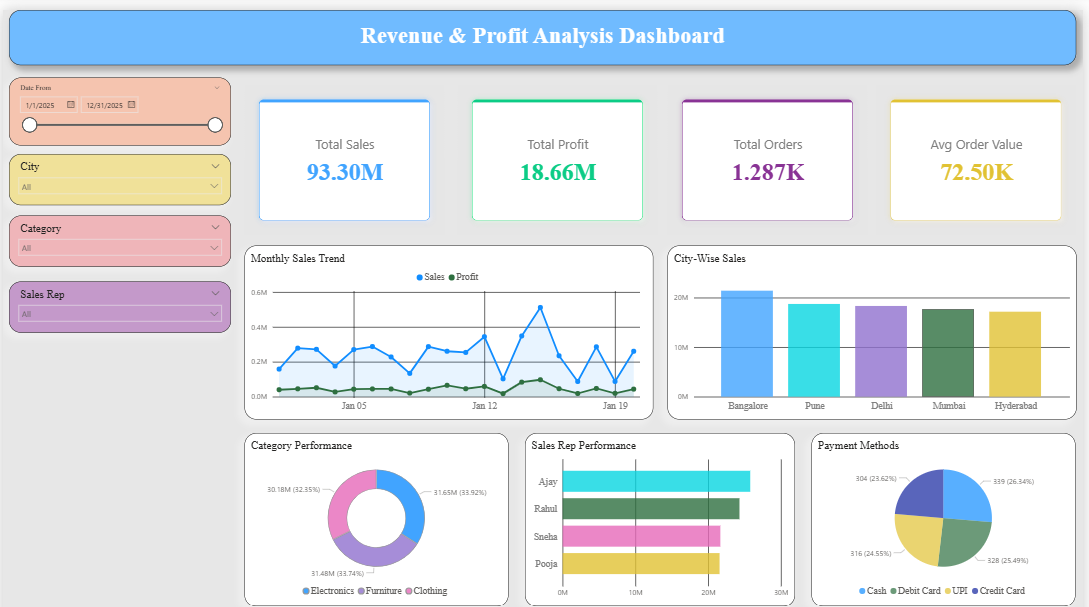

The page's visual inventory and layout, read from the dashboard file:
{"tool":"powerbi","page":{"name":"Dashboard","canvas":[1800,1700],"ordinal":0},"visuals":[{"type":"textbox","title":"Revenue & Profit Analysis Dashboard","box":[10,0,1778.3,91.7],"z":0},{"type":"slicer","title":"Category Performance","fields":{"Values":["Sales_Data_2025.Order_Date"]},"box":[10,113.3,370,113.3],"z":1000},{"type":"slicer","title":"Category Performance","fields":{"Values":["Sales_Data_2025.City"]},"box":[10,240,370,85],"z":2000},{"type":"slicer","title":"Category Performance","fields":{"Values":["Sales_Data_2025.Product_Category"]},"box":[10,343.3,370,85],"z":3000},{"type":"slicer","title":"Category Performance","fields":{"Values":["Sales_Data_2025.Sales_Rep"]},"box":[10,451.7,370,85],"z":4000},{"type":"lineChart","title":"Monthly  Sales Trend","fields":{"Y":["Sum(Sales_Data_2025.Total_Sales)","Sum(Sales_Data_2025.Profit)"],"Category":["Sales_Data_2025.Order_Date.Variation.Date Hierarchy.Year","Sales_Data_2025.Order_Date.Variation.Date Hierarchy.Quarter","Sales_Data_2025.Order_Date.Variation.Date Hierarchy.Month","Sales_Data_2025.Order_Date.Variation.Date Hierarchy.Day"]},"box":[403.3,391.7,681,290],"z":5000},{"type":"clusteredColumnChart","title":"City-Wise Sales","fields":{"Y":["Sum(Sales_Data_2025.Total_Sales)"],"Category":["Sales_Data_2025.City"]},"box":[1106.7,391.7,681.7,290],"z":6000},{"type":"donutChart","title":"Category Performance","fields":{"Category":["Sales_Data_2025.Product_Category"],"Y":["Sum(Sales_Data_2025.Total_Sales)"]},"box":[403.3,705,440,290],"z":7000},{"type":"clusteredBarChart","title":"Sales Rep Performance","fields":{"Category":["Sales_Data_2025.Sales_Rep"],"Y":["Sum(Sales_Data_2025.Total_Sales)"]},"box":[870,705,450,290],"z":8000},{"type":"pieChart","title":"Payment Methods","fields":{"Category":["Sales_Data_2025.Payment_Method"],"Y":["CountNonNull(Sales_Data_2025.Order_ID)"]},"box":[1348.3,705,440,290],"z":9000},{"type":"cardVisual","fields":{"Data":["Sum(Sales_Data_2025.Total_Sales)"]},"box":[403.3,125,333,250],"z":10000},{"type":"cardVisual","fields":{"Data":["Sum(Sales_Data_2025.Profit)"]},"box":[756.7,125,333.3,250],"z":11000},{"type":"cardVisual","fields":{"Data":["CountNonNull(Sales_Data_2025.Order_ID)"]},"box":[1106.7,125,333.3,250],"z":12000},{"type":"cardVisual","fields":{"Data":["Avg(Sales_Data_2025.Total_Sales)"]},"box":[1455,125,333.3,250],"z":13000},{"type":"clusteredColumnChart","title":"Discount Impact on Profit","fields":{"Y":["Avg(Sales_Data_2025.Total_Sales)","Avg(Sales_Data_2025.Profit)"],"Category":["Sales_Data_2025.Discount_%"]},"box":[401.7,1013.3,681,290],"z":14000},{"type":"lineChart","title":"Region Wise Sales Trend","fields":{"Category":["Sales_Data_2025.Region"],"Y":["Sum(Sales_Data_2025.Total_Sales)","Sum(Sales_Data_2025.Profit)"]},"box":[1106.7,1013.3,681.7,290],"z":15000},{"type":"tableEx","title":"Top 5 Products by Sales (Best)","fields":{"Values":["Sales_Data_2025.Product_Name","Sum(Sales_Data_2025.Total_Sales)"]},"box":[403.3,1330,680,290],"z":16000},{"type":"tableEx","title":"Bottom 5 Products by Sales (Worst)","fields":{"Values":["Sales_Data_2025.Product_Name","Sum(Sales_Data_2025.Total_Sales)"]},"box":[1106.7,1330,681.7,290],"z":17000}]}

Visuals, with their boxes on the page's 1800x1700 design canvas (x1, y1, x2, y2). These are canvas units, not pixel positions in the 1089x607 screenshot, which may show the page scaled, cropped or inside an application window:
"Revenue & Profit Analysis Dashboard" textbox: [10, 0, 1788, 92]
"Category Performance" slicer: [10, 113, 380, 227]
"Category Performance" slicer: [10, 240, 380, 325]
"Category Performance" slicer: [10, 343, 380, 428]
"Category Performance" slicer: [10, 452, 380, 537]
"Monthly  Sales Trend" lineChart: [403, 392, 1084, 682]
"City-Wise Sales" clusteredColumnChart: [1107, 392, 1788, 682]
"Category Performance" donutChart: [403, 705, 843, 995]
"Sales Rep Performance" clusteredBarChart: [870, 705, 1320, 995]
"Payment Methods" pieChart: [1348, 705, 1788, 995]
cardVisual - Sum(Sales_Data_2025.Total_Sales): [403, 125, 736, 375]
cardVisual - Sum(Sales_Data_2025.Profit): [757, 125, 1090, 375]
cardVisual - CountNonNull(Sales_Data_2025.Order_ID): [1107, 125, 1440, 375]
cardVisual - Avg(Sales_Data_2025.Total_Sales): [1455, 125, 1788, 375]
"Discount Impact on Profit" clusteredColumnChart: [402, 1013, 1083, 1303]
"Region Wise Sales Trend" lineChart: [1107, 1013, 1788, 1303]
"Top 5 Products by Sales (Best)" tableEx: [403, 1330, 1083, 1620]
"Bottom 5 Products by Sales (Worst)" tableEx: [1107, 1330, 1788, 1620]
